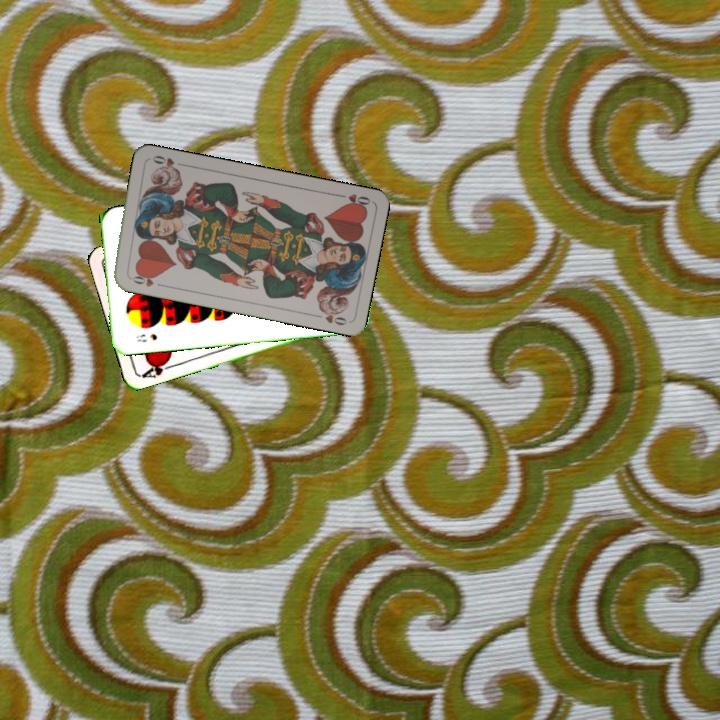HA: (137, 355, 177, 381)
HO: (333, 190, 373, 211), (125, 269, 165, 289)
S8: (132, 330, 160, 345)
